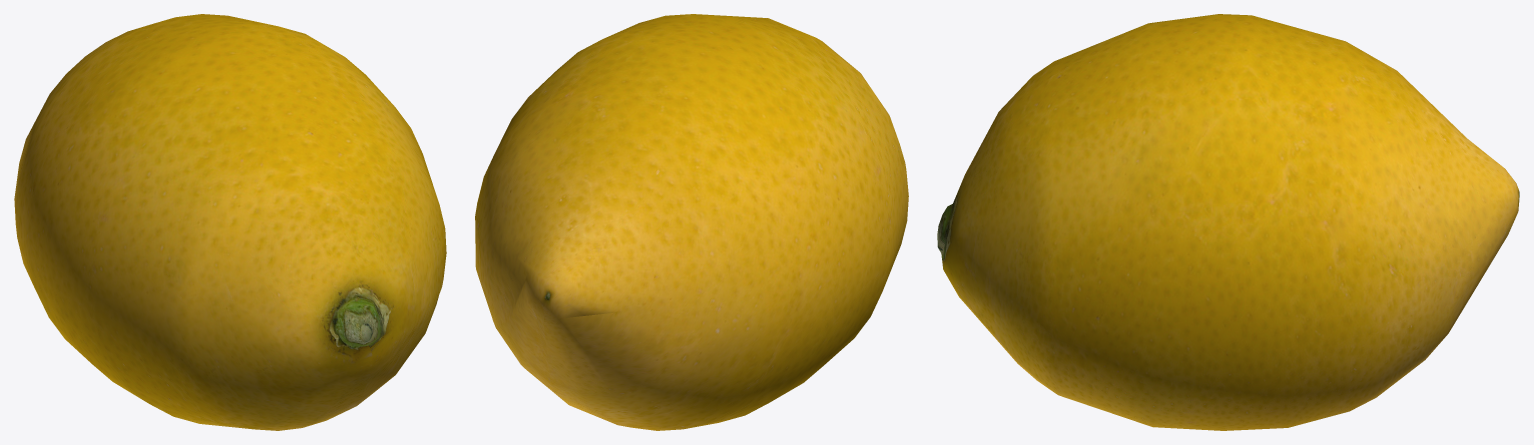
Rendered from Lemon.FBX.
3 renders of one model, left to right at view 1: azimuth 30°, elevation 25°; view 2: azimuth 150°, elevation 25°; view 3: azimuth 270°, elevation 25°, orthographic. The views are drawn at different scales.
Parts seen in each view (by area): view 1: lemon; view 2: lemon; view 3: lemon.
Boxes of the visible parts, <box> form: lemon: <box>14,14,446,430</box>; lemon: <box>475,14,908,430</box>; lemon: <box>937,14,1519,430</box>.
Size of the model in its own units: 7.29 by 7.29 by 10.17.
1 material, 1 textured.
